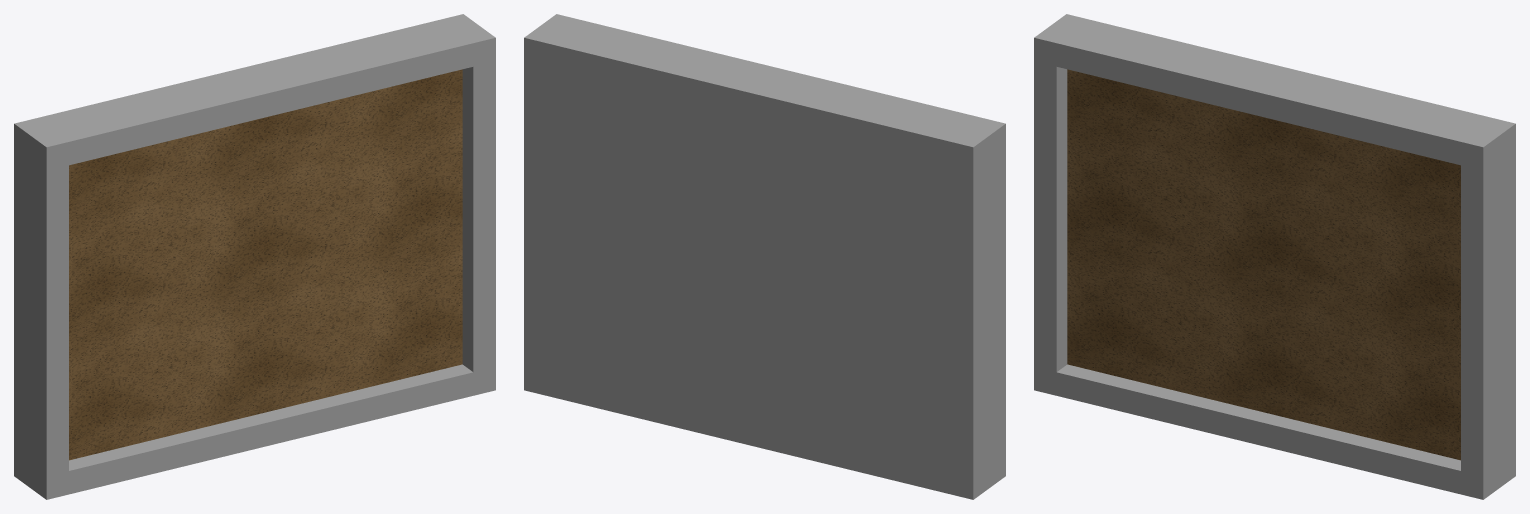
Rendered from ShopCorkBoard.fbx.
The picture shows the model from 3 angles, left to right: view 1: azimuth 30°, elevation 25°; view 2: azimuth 150°, elevation 25°; view 3: azimuth 330°, elevation 25°; orthographic projection.
Visible parts, largest first — view 1: CorkBoard; view 2: CorkBoard; view 3: CorkBoard.
Part boxes in pixels (<box>): CorkBoard: <box>14,14,495,499</box>; CorkBoard: <box>524,14,1005,499</box>; CorkBoard: <box>1034,14,1515,499</box>.
Size of the model in its own units: 2 by 1.5 by 0.25.
